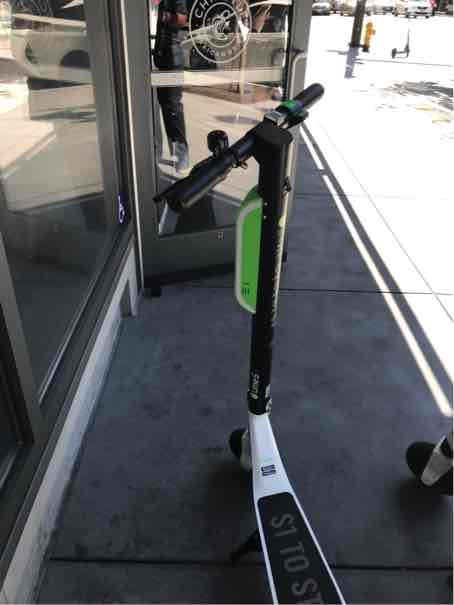scooter: (155, 72, 403, 605)
